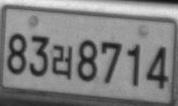1: (124, 43, 146, 86)
3: (28, 35, 50, 77)
4: (146, 45, 169, 89)
7: (100, 41, 122, 83)
8: (6, 32, 27, 74), (77, 39, 97, 82)
러: (51, 44, 73, 79)
